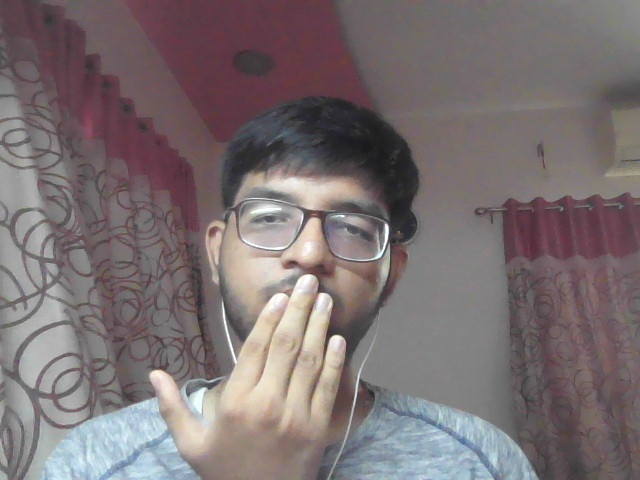આભાર: (145, 272, 352, 480)
